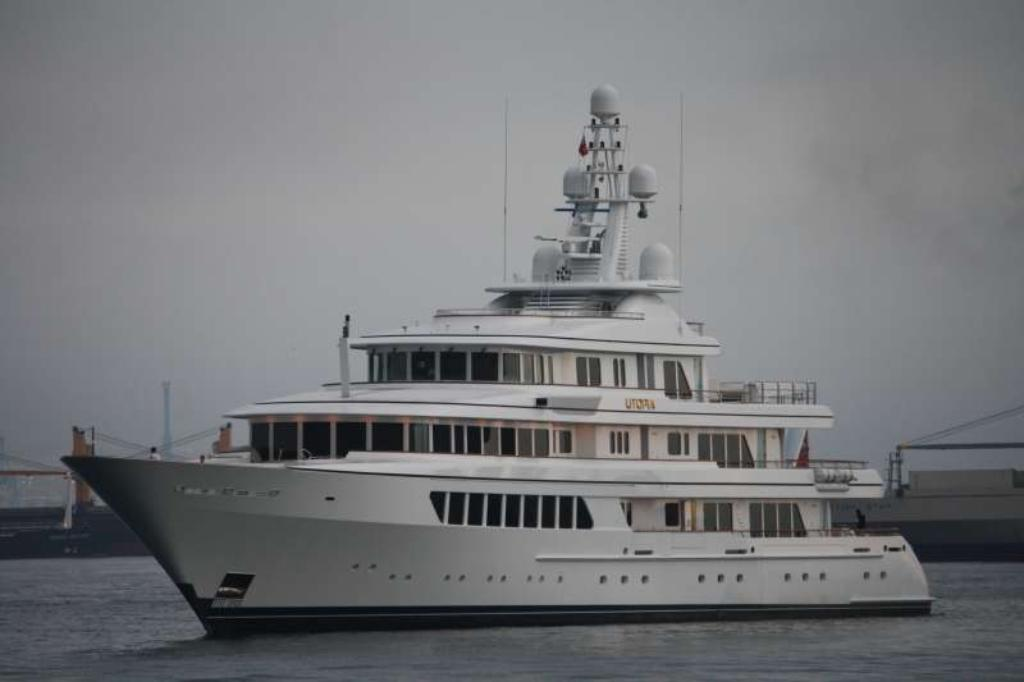PassengerShip: (56, 79, 944, 644)
